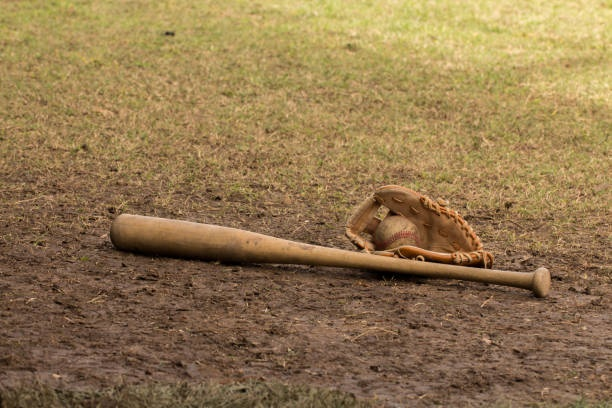bita: (113, 211, 553, 298)
